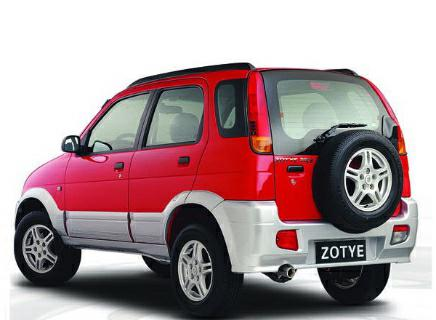众泰-2008: (12, 60, 423, 315)
